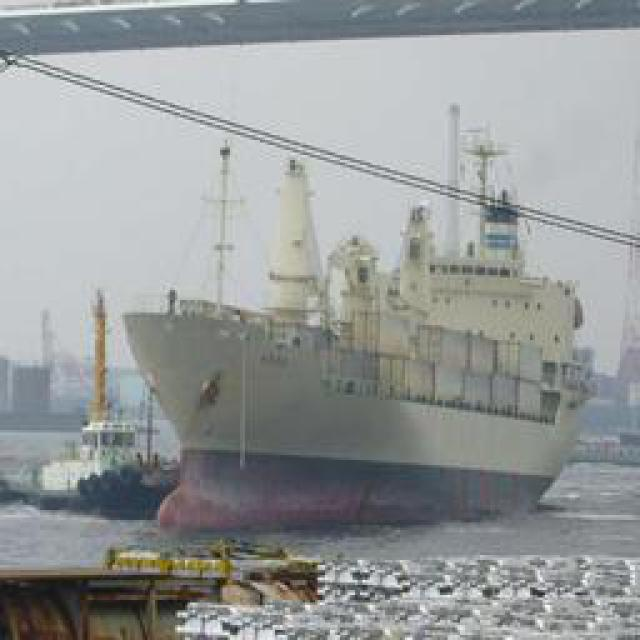Ship: (115, 84, 600, 519)
